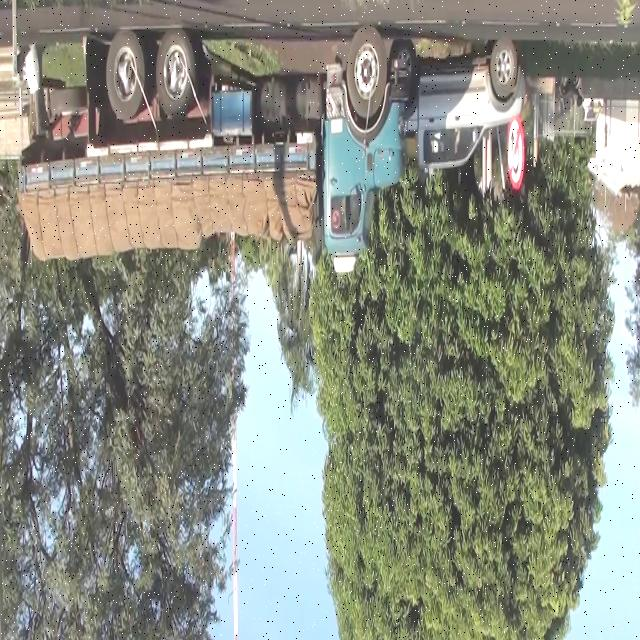-axle: (106, 34, 147, 118), (347, 30, 385, 120), (158, 34, 194, 118)
